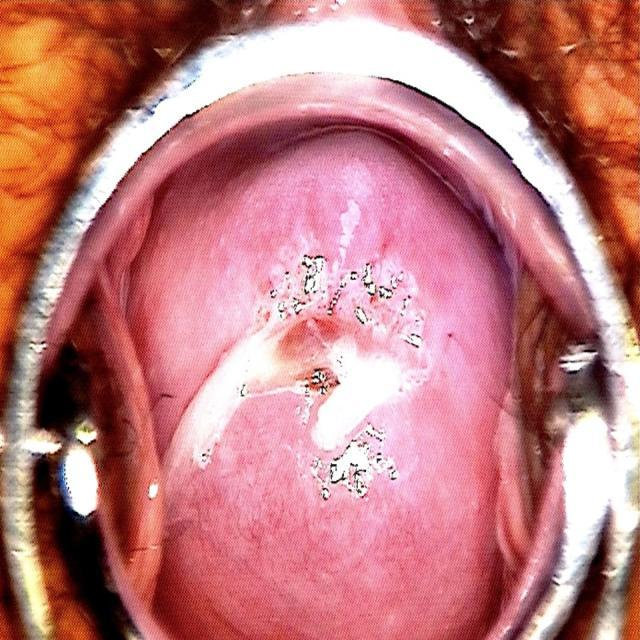cervical_lesion: (119, 185, 441, 542)
